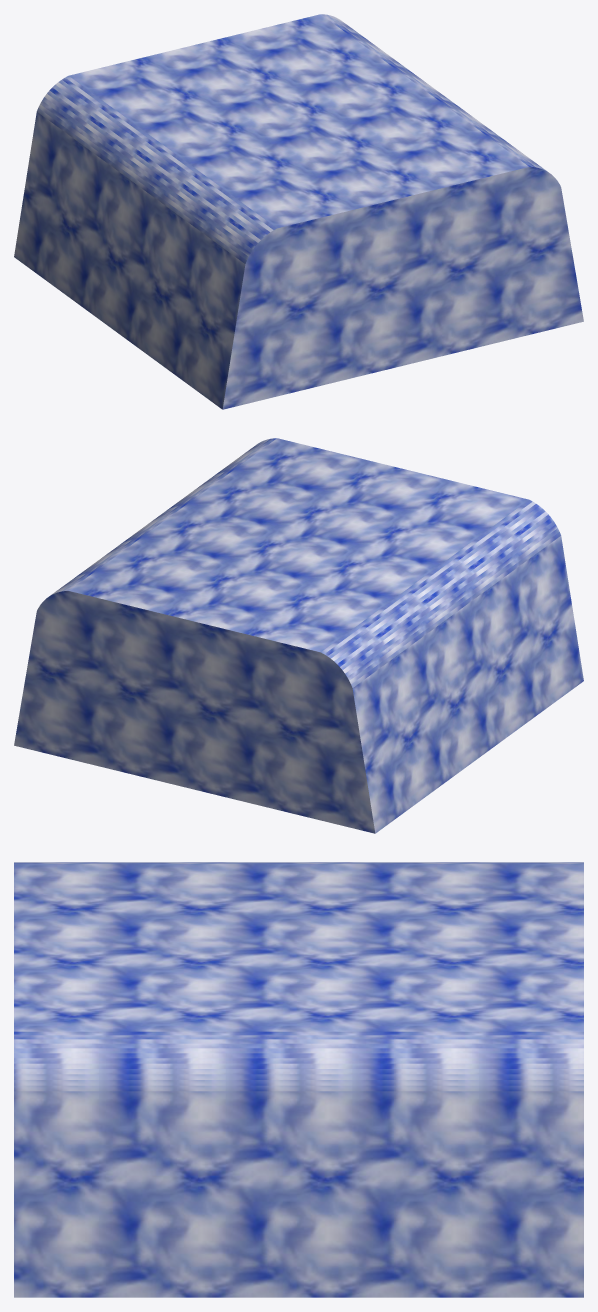
Rendered from original-117.obj.
3 renders of one model, top to bottom at view 1: azimuth 30°, elevation 25°; view 2: azimuth 150°, elevation 25°; view 3: azimuth 270°, elevation 25°, orthographic. The views are drawn at different scales.
Parts seen in each view (by area): view 1: Group_1_84/Group_1/mesh1/mesh1-geometry#mesh1-geometry; view 2: Group_1_84/Group_1/mesh1/mesh1-geometry#mesh1-geometry; view 3: Group_1_84/Group_1/mesh1/mesh1-geometry#mesh1-geometry.
Part boxes in pixels (bbox=[...]): Group_1_84/Group_1/mesh1/mesh1-geometry#mesh1-geometry: bbox=[14, 14, 583, 409]; Group_1_84/Group_1/mesh1/mesh1-geometry#mesh1-geometry: bbox=[14, 438, 583, 833]; Group_1_84/Group_1/mesh1/mesh1-geometry#mesh1-geometry: bbox=[14, 862, 583, 1297].
Bounding box in the file's own units: 0.0524 × 0.0233 × 0.0524.
